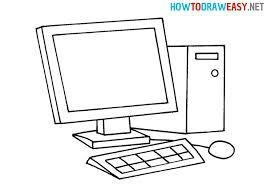keyboard: (88, 138, 203, 178)
monitor: (36, 18, 179, 147)
mouse: (205, 140, 241, 164)
pc: (131, 46, 225, 133)
